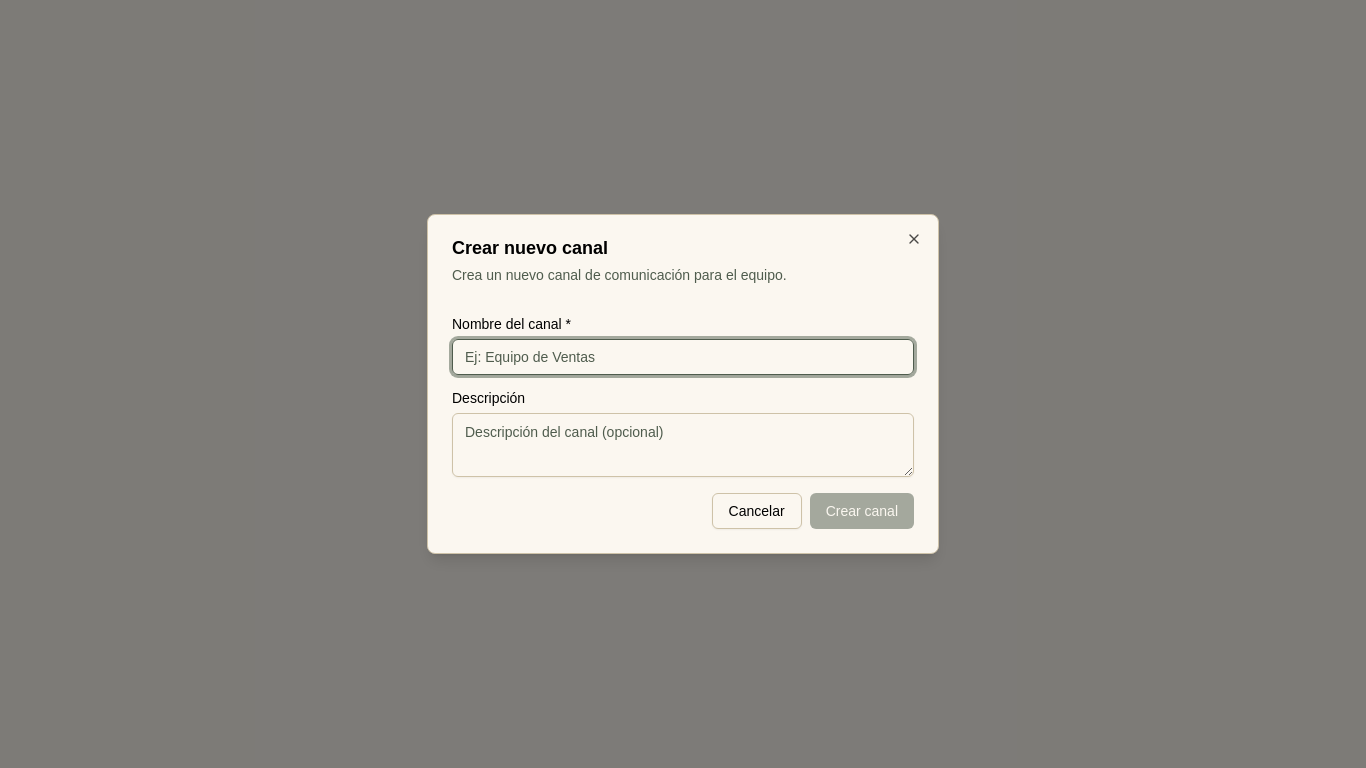
Test: CreateChannelDialog › enables submit button when name is entered
The image size is (1366, 768).
Type "Nuevo canal" into the field with placeholder "Ej: Equipo de Ventas" at (683, 357), box 452,339 -> 914,375
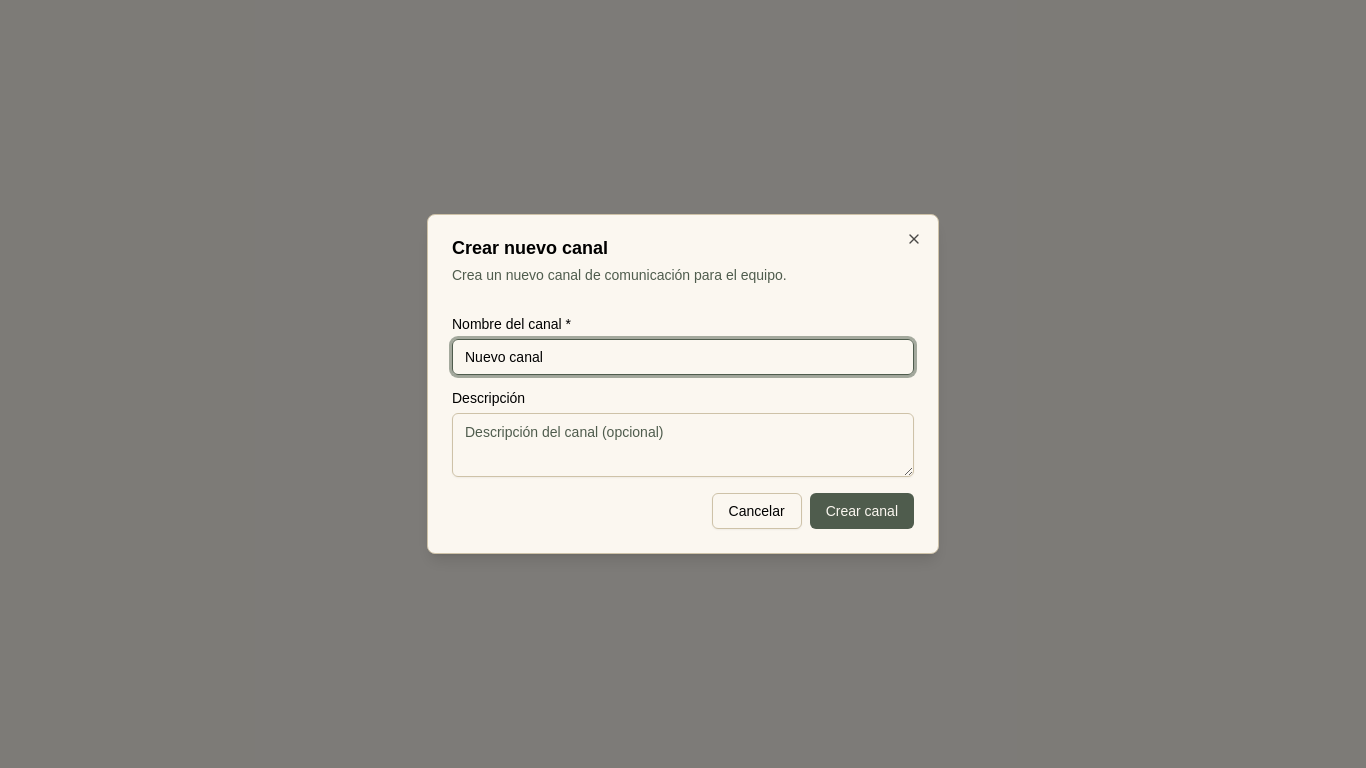
Now the button "Crear canal" is enabled, box 810,493 -> 914,529
